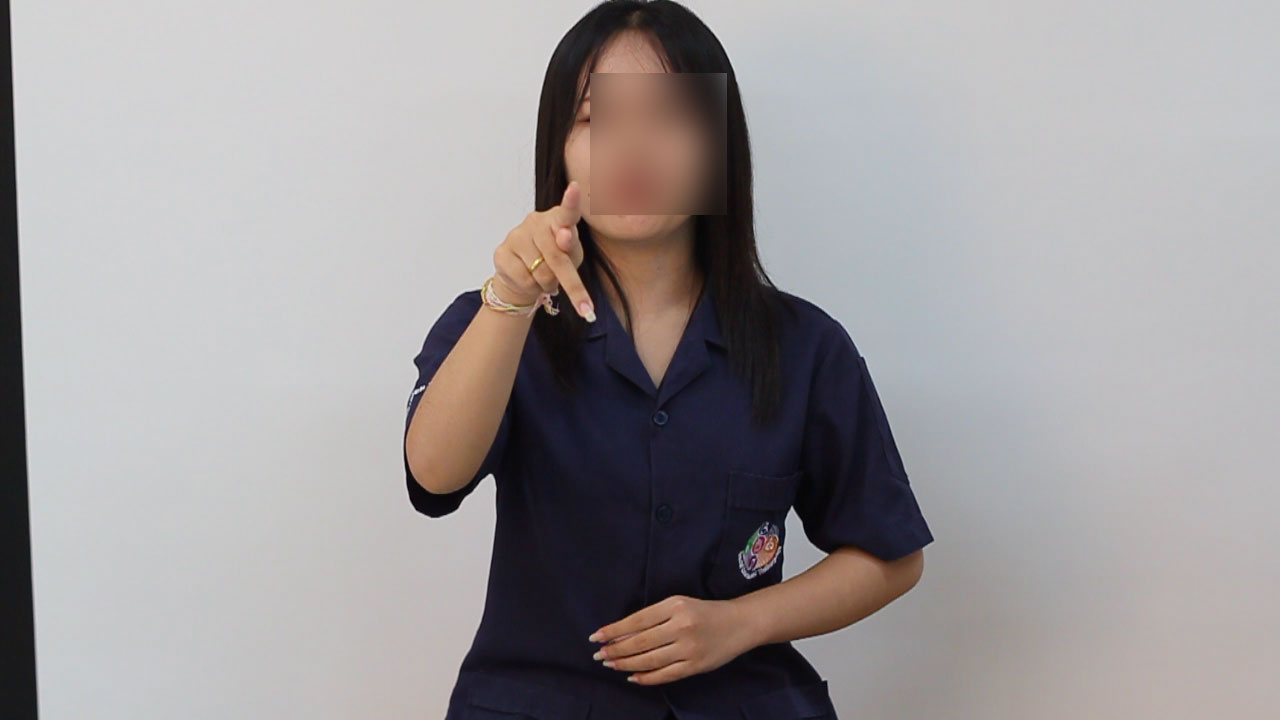por: (492, 163, 614, 338)
